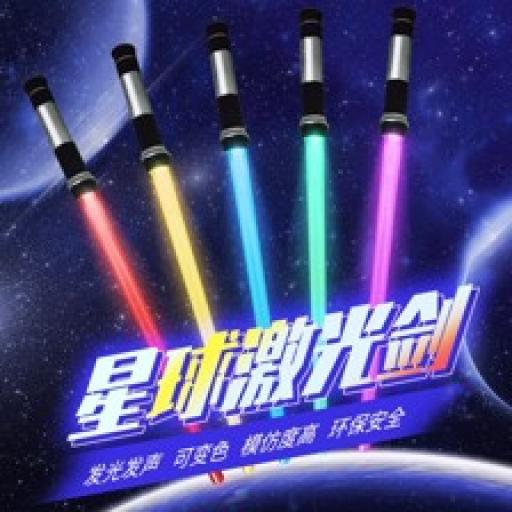lightsaber: (30, 76, 222, 482), (114, 44, 254, 473), (212, 22, 289, 462), (359, 4, 417, 454), (299, 8, 333, 461)
